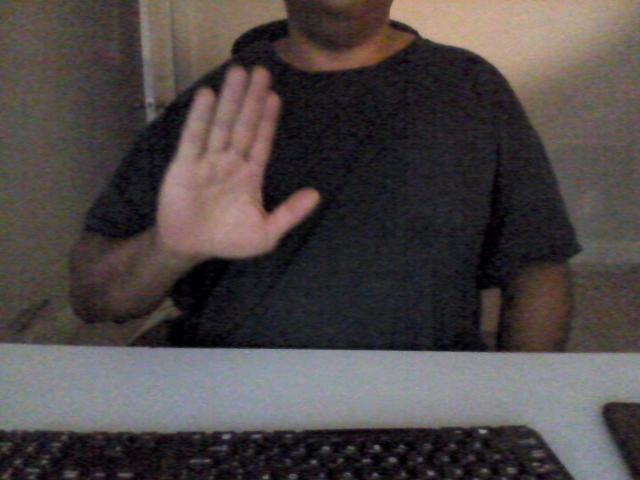hello: (157, 61, 322, 263)
